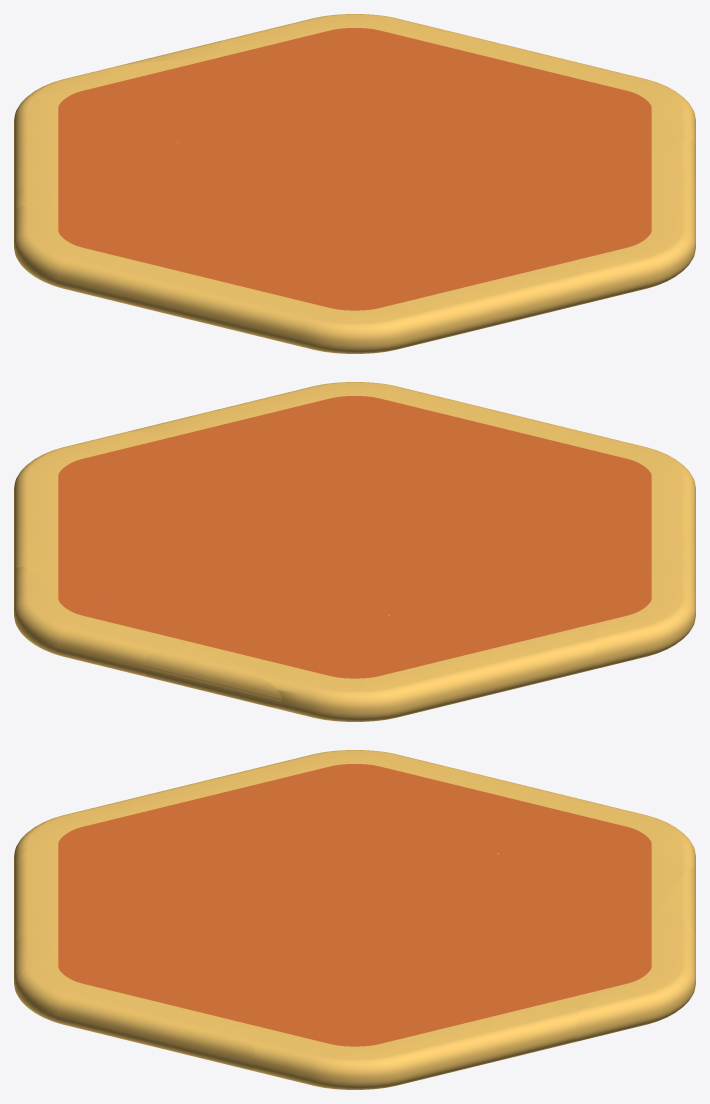
Rendered from Wooden broken  111.fbx.
3 renders of one model, top to bottom at view 1: azimuth 30°, elevation 25°; view 2: azimuth 150°, elevation 25°; view 3: azimuth 270°, elevation 25°, orthographic.
Parts seen in each view (by area): view 1: Cylinder.137, Cylinder.122, Cylinder.075, Cylinder.141, Cylinder.123, Cylinder.129, Cylinder.120, Cylinder.127, Cylinder.132, Cylinder.128, Cylinder.130, Cylinder.069 (+28 smaller); view 2: Cylinder.122, Cylinder.137, Cylinder.075, Cylinder.069, Cylinder.123, Cylinder.078, Cylinder.067, Cylinder.127, Cylinder.120, Cylinder.132, Cylinder.128, Cylinder.130 (+28 smaller); view 3: Cylinder.137, Cylinder.075, Cylinder.122, Cylinder.120, Cylinder.121, Cylinder.127, Cylinder.077, Cylinder.132, Cylinder.128, Cylinder.141, Cylinder.130, Cylinder.067 (+28 smaller).
Boxes of the visible parts, box(x1,y1,x2,y2) form: Cylinder.137: box(545, 168, 695, 286); Cylinder.122: box(14, 133, 177, 200); Cylinder.075: box(329, 34, 488, 111); Cylinder.141: box(386, 239, 532, 340); Cylinder.123: box(14, 206, 136, 302); Cylinder.129: box(179, 264, 346, 346); Cylinder.120: box(513, 115, 695, 167); Cylinder.127: box(137, 185, 298, 263); Cylinder.132: box(300, 160, 474, 238); Cylinder.128: box(241, 148, 399, 217); Cylinder.130: box(226, 221, 385, 298); Cylinder.069: box(24, 56, 214, 101); Cylinder.122: box(389, 595, 556, 704); Cylinder.137: box(194, 382, 412, 449); Cylinder.075: box(29, 523, 236, 588); Cylinder.069: box(193, 629, 370, 721); Cylinder.123: box(594, 571, 695, 669); Cylinder.078: box(332, 616, 450, 721); Cylinder.067: box(14, 588, 151, 670); Cylinder.127: box(445, 533, 613, 595); Cylinder.120: box(87, 431, 256, 490); Cylinder.132: box(318, 458, 482, 533); Cylinder.128: box(304, 528, 485, 575); Cylinder.130: box(491, 470, 624, 536); Cylinder.137: box(15, 943, 221, 1053); Cylinder.075: box(416, 929, 601, 1008); Cylinder.122: box(391, 776, 593, 853); Cylinder.120: box(222, 970, 361, 1079); Cylinder.121: box(285, 1008, 418, 1089); Cylinder.127: box(226, 791, 390, 860); Cylinder.077: box(362, 976, 488, 1080); Cylinder.132: box(153, 860, 354, 923); Cylinder.128: box(283, 855, 435, 928); Cylinder.141: box(14, 860, 151, 919); Cylinder.130: box(93, 810, 278, 860); Cylinder.067: box(602, 935, 695, 1027).
Bounding box in the file's own units: 36.04 × 1.55 × 32.47.
